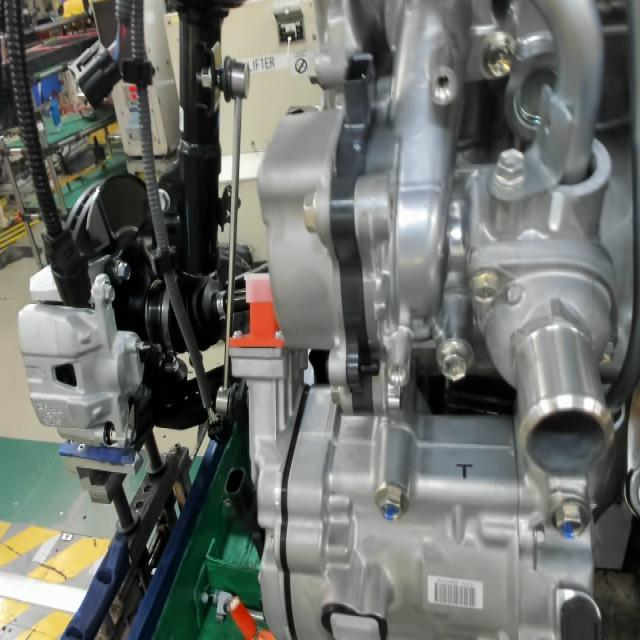Compressor-T: (454, 460, 474, 482)
